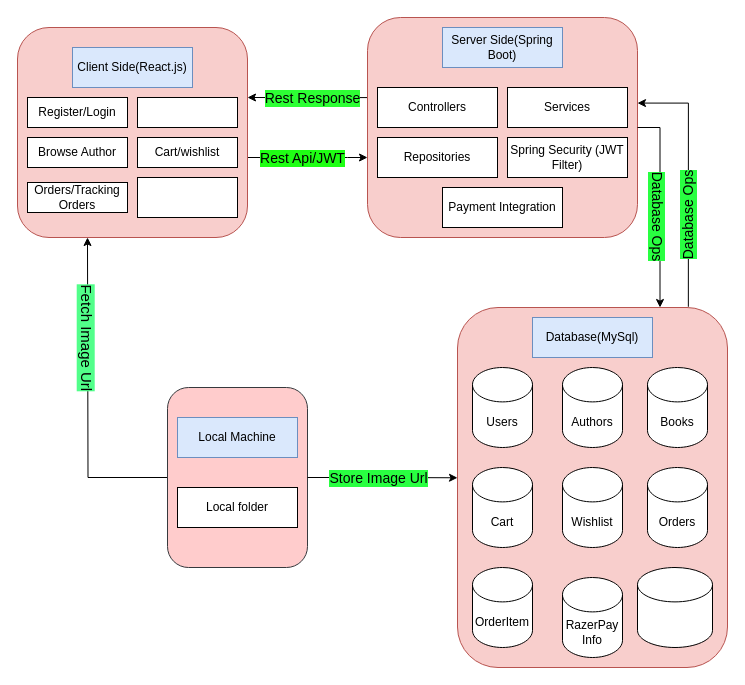
Image size: 745x685. Some labels were removed from this diagram. The shapes that lost their labels are listed below. From the top down, each one's centre as x and y in pixels, then its label:
the point at 187,112: Browse Books
the point at 187,197: Admin Dashboared
the point at 674,607: Return/ Replacement
